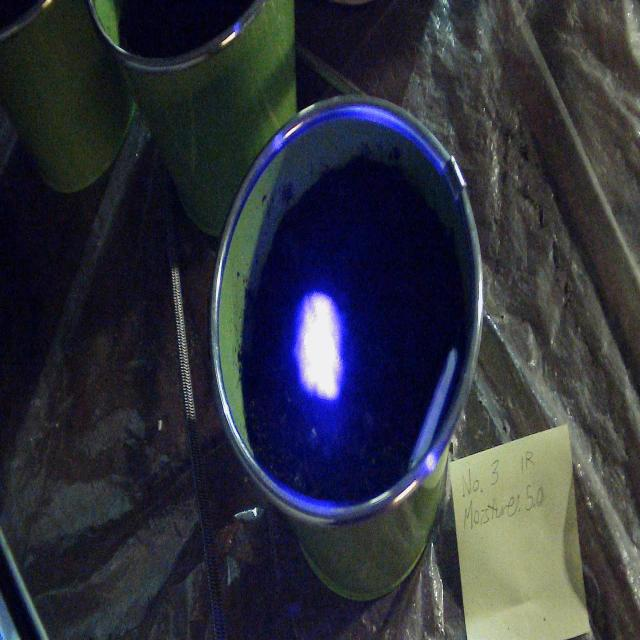soil-moisture-5.0: (295, 292, 345, 402)
